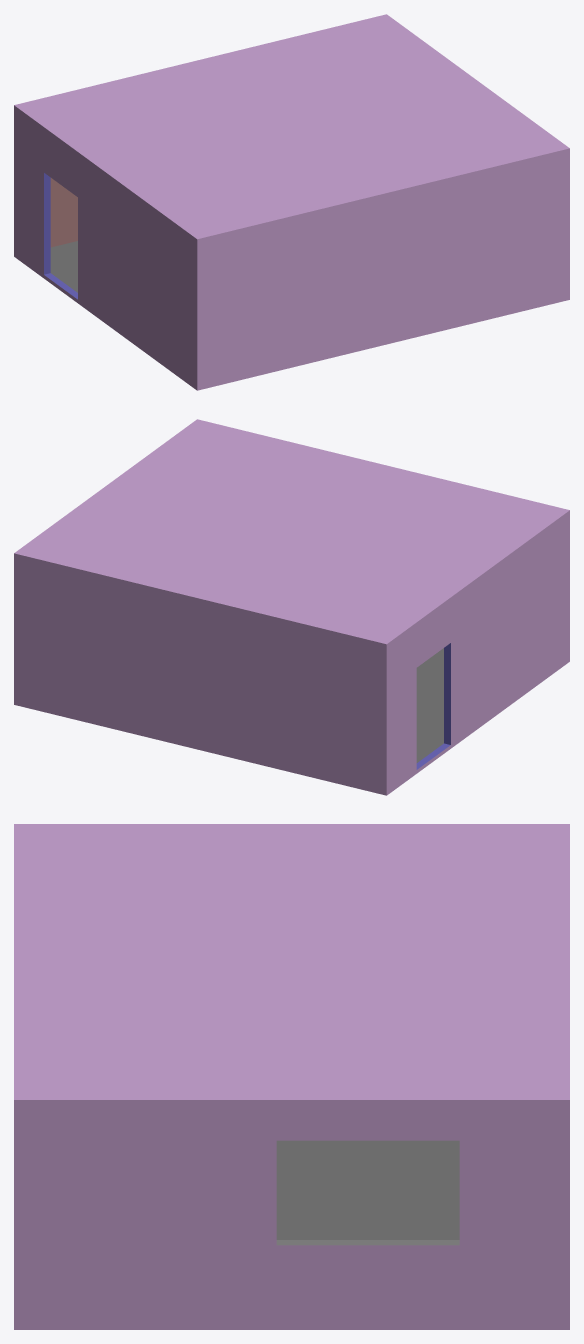
The model's file is Bedroom.fbx.
3 renders of one model, top to bottom at view 1: azimuth 30°, elevation 25°; view 2: azimuth 150°, elevation 25°; view 3: azimuth 270°, elevation 25°, orthographic. The views are drawn at different scales.
Parts seen in each view (by area): view 1: polySurface6; view 2: polySurface6; view 3: polySurface6.
Part boxes in pixels (x1,y1,x2,y2): polySurface6: (14, 14, 569, 390); polySurface6: (14, 419, 569, 795); polySurface6: (14, 824, 569, 1329).
Bounding box in the file's own units: 32.05 × 12.44 × 27.29.
